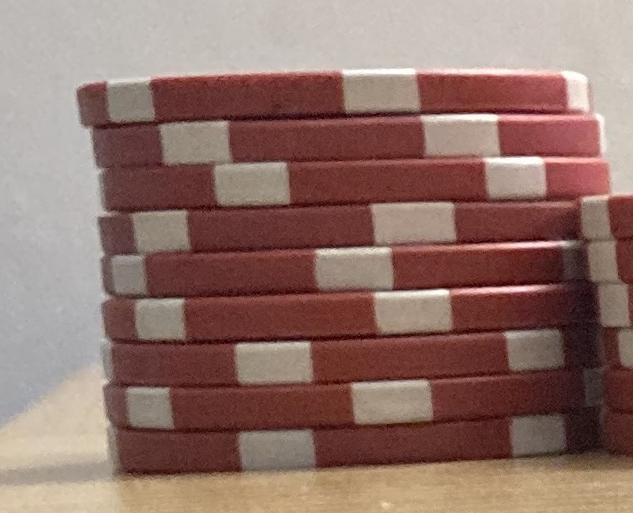Chip: (1, 1, 633, 513)
